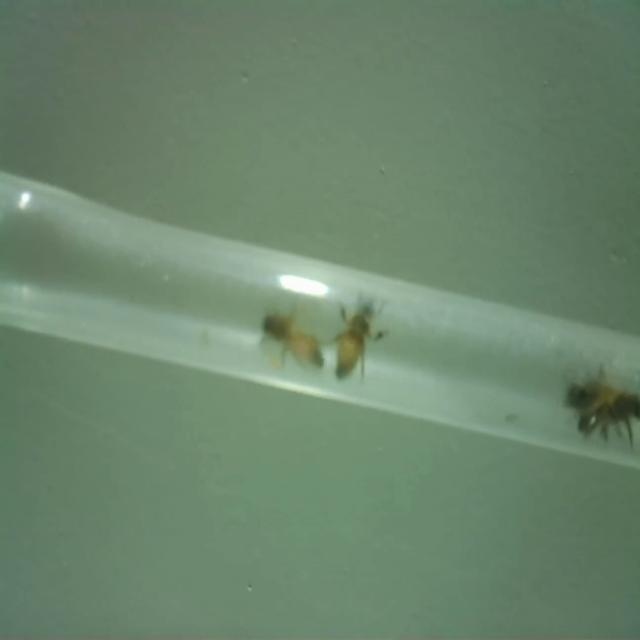Honeybee-Detection: (564, 365, 640, 448), (328, 300, 388, 382), (260, 300, 324, 371)
